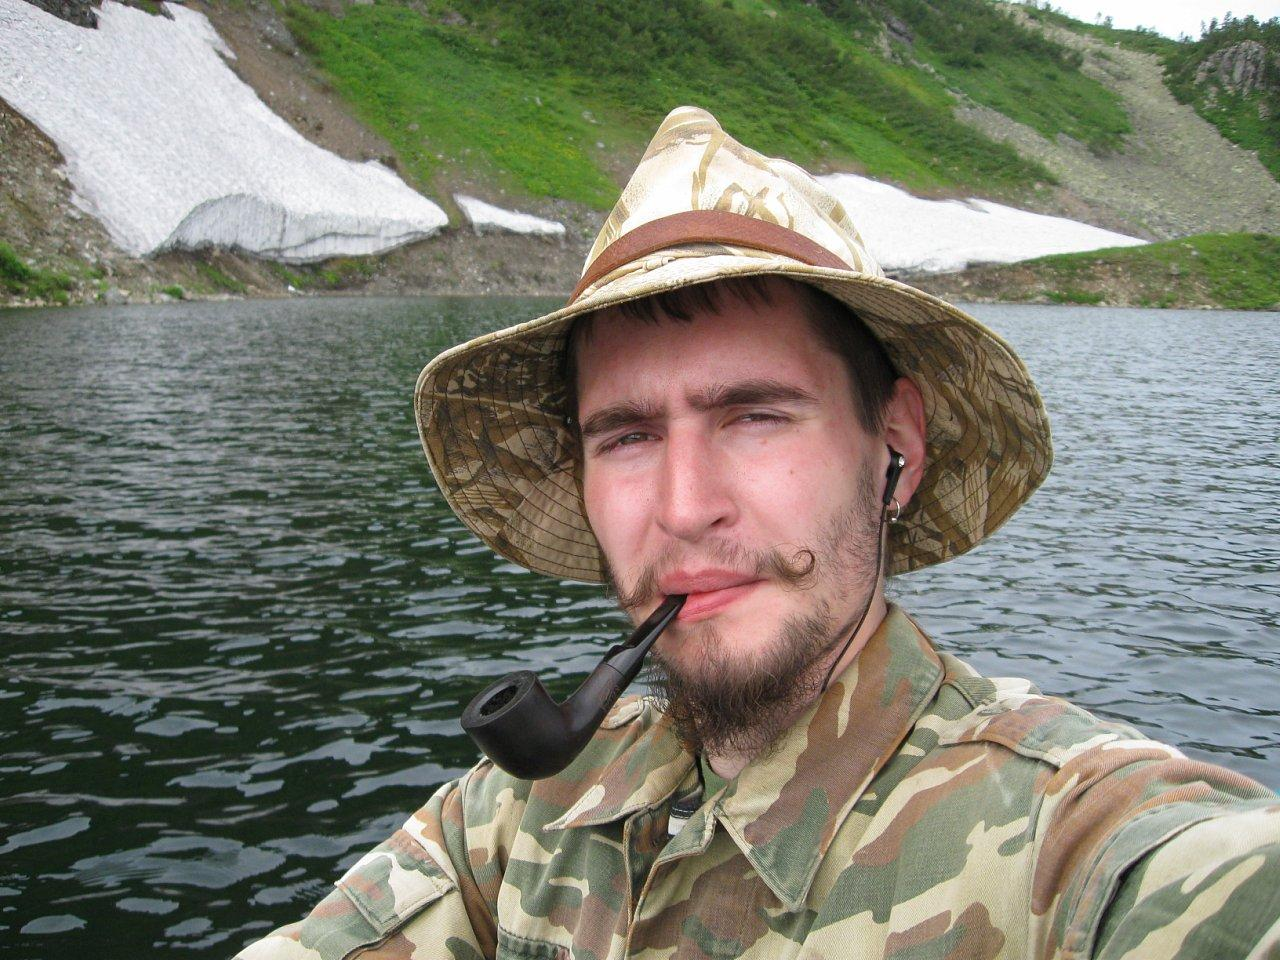trubka: (462, 597, 684, 779)
